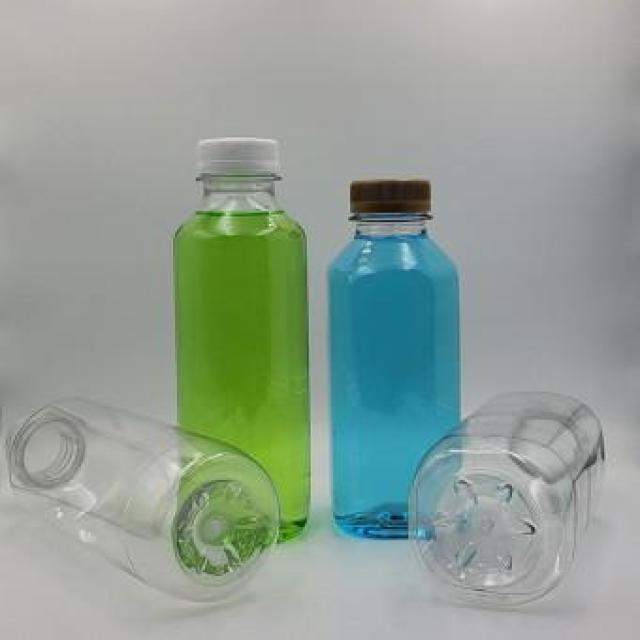bottle: (5, 382, 298, 632)
